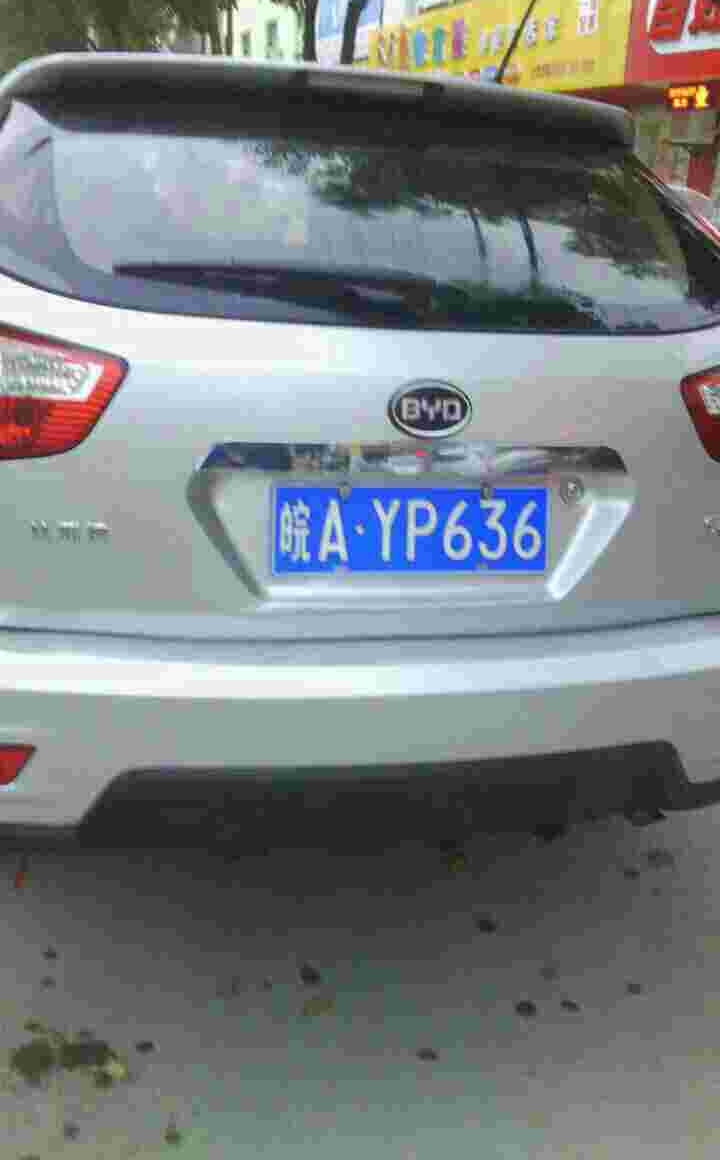license_plate: (278, 480, 546, 565)
